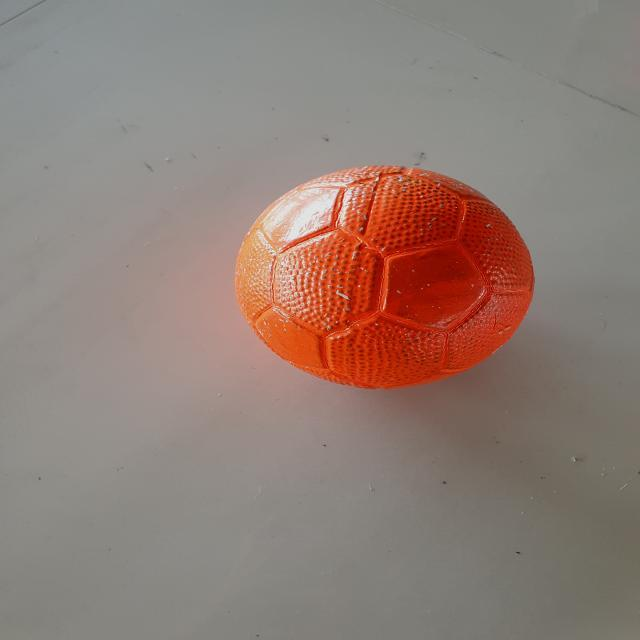bola: (230, 156, 540, 402)
